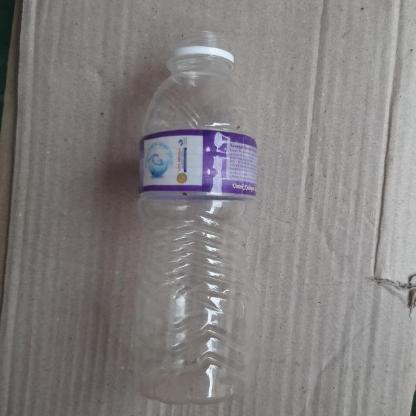Plastic Bottle: (130, 30, 260, 406)
